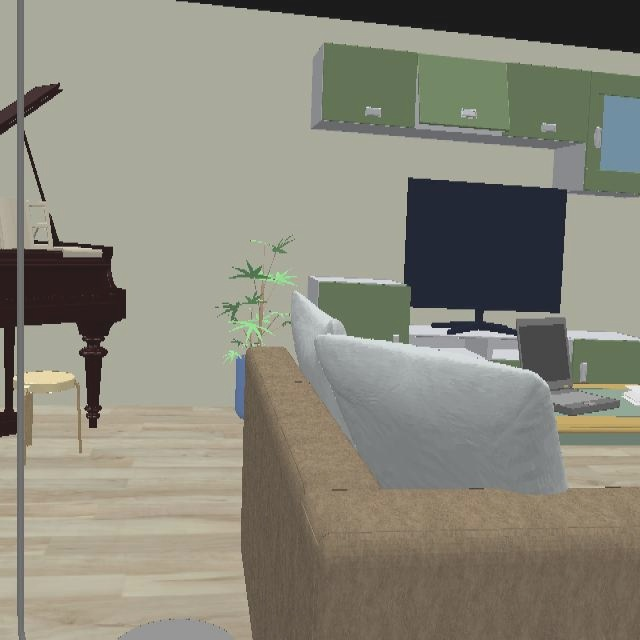cabinet: (321, 52, 640, 197), (318, 281, 411, 344), (574, 340, 640, 385)
laptop: (515, 313, 615, 416)
monitor: (402, 176, 567, 313)
pillow: (289, 295, 568, 497)
sofa: (240, 347, 640, 640)
